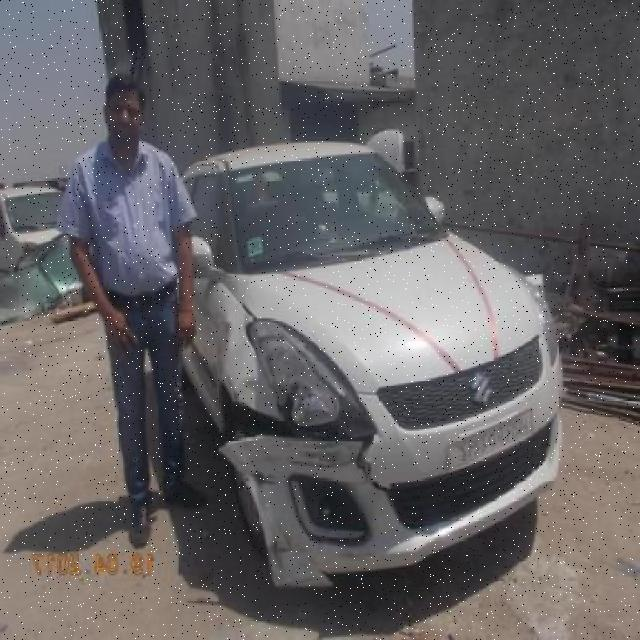damage: (211, 371, 375, 451), (267, 513, 368, 588), (281, 434, 361, 476), (288, 381, 346, 436), (235, 367, 285, 421), (355, 433, 391, 496), (248, 464, 279, 492)
